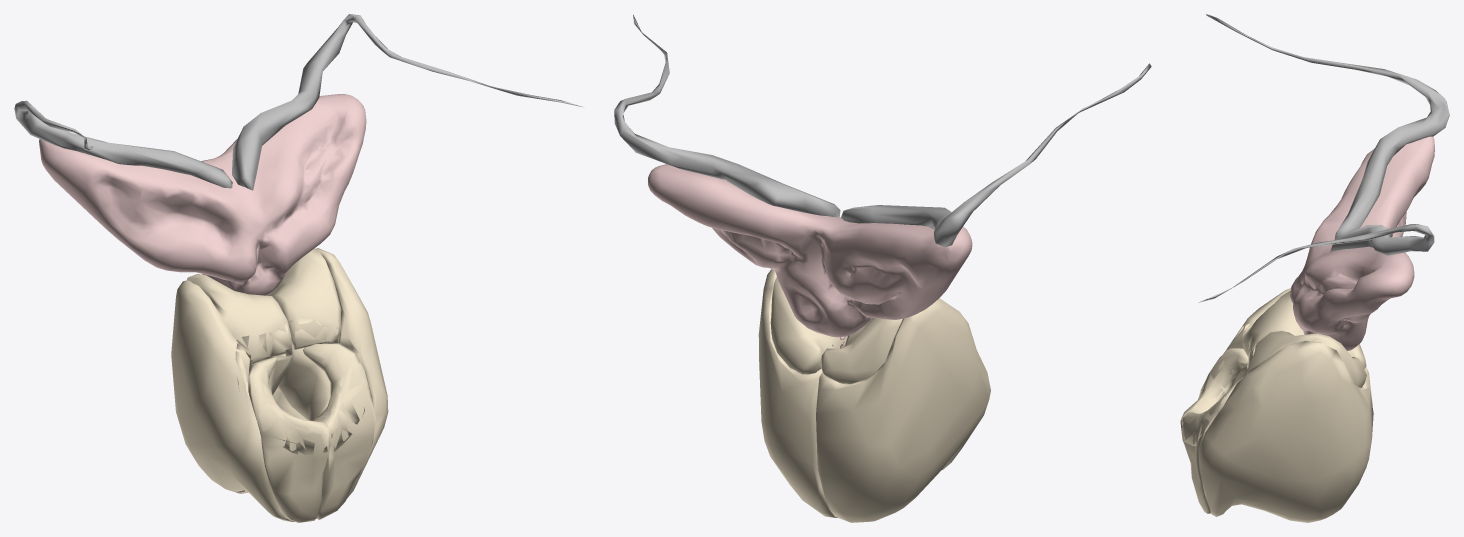
File: vh_m_prostate-20.glb
3 renders of one model, left to right at view 1: azimuth 30°, elevation 25°; view 2: azimuth 150°, elevation 25°; view 3: azimuth 270°, elevation 25°, orthographic. The views are drawn at different scales.
Visible parts, largest first — view 1: VH_M_seminal_vesicle, VH_M_peripheral_zone_of_prostate_R, VH_M_anterior_fibromuscular_stroma_R, VH_M_vas_deferens_R, VH_M_anterior_fibromuscular_stroma_L, VH_M_base_of_prostate, VH_M_vas_deferens_L, VH_M_central_zone_of_prostate_L, VH_M_peripheral_zone_of_prostate_L, VH_M_central_zone_of_prostate_R, VH_M_transition_zone__of_prostate_L; view 2: VH_M_peripheral_zone_of_prostate_R, VH_M_seminal_vesicle, VH_M_peripheral_zone_of_prostate_L, VH_M_vas_deferens_R, VH_M_vas_deferens_L, VH_M_central_zone_of_prostate_R, VH_M_central_zone_of_prostate_L; view 3: VH_M_peripheral_zone_of_prostate_L, VH_M_seminal_vesicle, VH_M_vas_deferens_L, VH_M_vas_deferens_R, VH_M_central_zone_of_prostate_L, VH_M_central_zone_of_prostate_R, VH_M_base_of_prostate, VH_M_anterior_fibromuscular_stroma_L, VH_M_anterior_fibromuscular_stroma_R, VH_M_peripheral_zone_of_prostate_R.
Part boxes in pixels (bbox=[...]): VH_M_seminal_vesicle: bbox=[39, 94, 366, 295]; VH_M_peripheral_zone_of_prostate_R: bbox=[171, 280, 294, 521]; VH_M_anterior_fibromuscular_stroma_R: bbox=[248, 357, 329, 522]; VH_M_vas_deferens_R: bbox=[232, 14, 583, 190]; VH_M_anterior_fibromuscular_stroma_L: bbox=[303, 343, 375, 519]; VH_M_base_of_prostate: bbox=[235, 317, 369, 454]; VH_M_vas_deferens_L: bbox=[14, 100, 232, 188]; VH_M_central_zone_of_prostate_L: bbox=[267, 248, 341, 387]; VH_M_peripheral_zone_of_prostate_L: bbox=[272, 248, 388, 498]; VH_M_central_zone_of_prostate_R: bbox=[187, 274, 292, 364]; VH_M_transition_zone__of_prostate_L: bbox=[277, 345, 330, 420]; VH_M_peripheral_zone_of_prostate_R: bbox=[816, 298, 990, 522]; VH_M_seminal_vesicle: bbox=[648, 164, 972, 337]; VH_M_peripheral_zone_of_prostate_L: bbox=[758, 269, 837, 517]; VH_M_vas_deferens_R: bbox=[614, 14, 840, 217]; VH_M_vas_deferens_L: bbox=[841, 63, 1151, 247]; VH_M_central_zone_of_prostate_R: bbox=[820, 317, 902, 383]; VH_M_central_zone_of_prostate_L: bbox=[770, 277, 847, 374]; VH_M_peripheral_zone_of_prostate_L: bbox=[1198, 340, 1373, 522]; VH_M_seminal_vesicle: bbox=[1290, 136, 1434, 350]; VH_M_vas_deferens_L: bbox=[1206, 14, 1449, 238]; VH_M_vas_deferens_R: bbox=[1198, 224, 1434, 302]; VH_M_central_zone_of_prostate_L: bbox=[1243, 331, 1366, 387]; VH_M_central_zone_of_prostate_R: bbox=[1242, 290, 1366, 369]; VH_M_base_of_prostate: bbox=[1181, 323, 1256, 446]; VH_M_anterior_fibromuscular_stroma_L: bbox=[1181, 378, 1242, 513]; VH_M_anterior_fibromuscular_stroma_R: bbox=[1180, 348, 1248, 442]; VH_M_peripheral_zone_of_prostate_R: bbox=[1200, 288, 1372, 405].
Size of the model in its own units: 0.0827 by 0.0705 by 0.0428.
